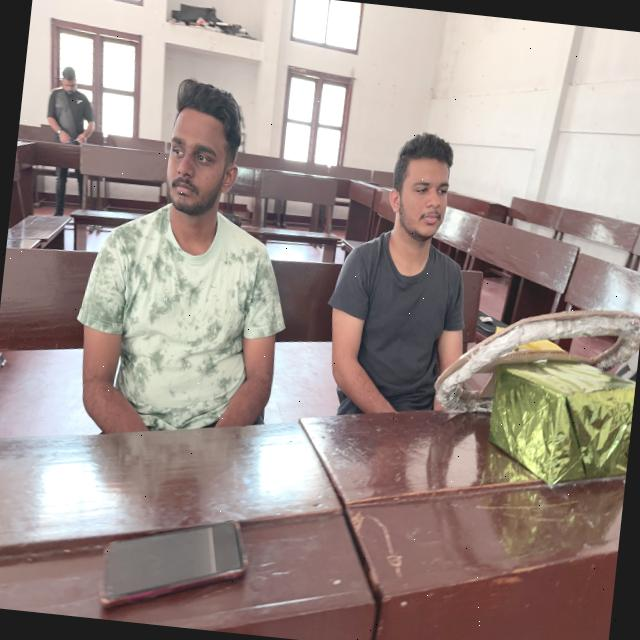no-seatbelt: (62, 202, 290, 482), (312, 225, 481, 446)
